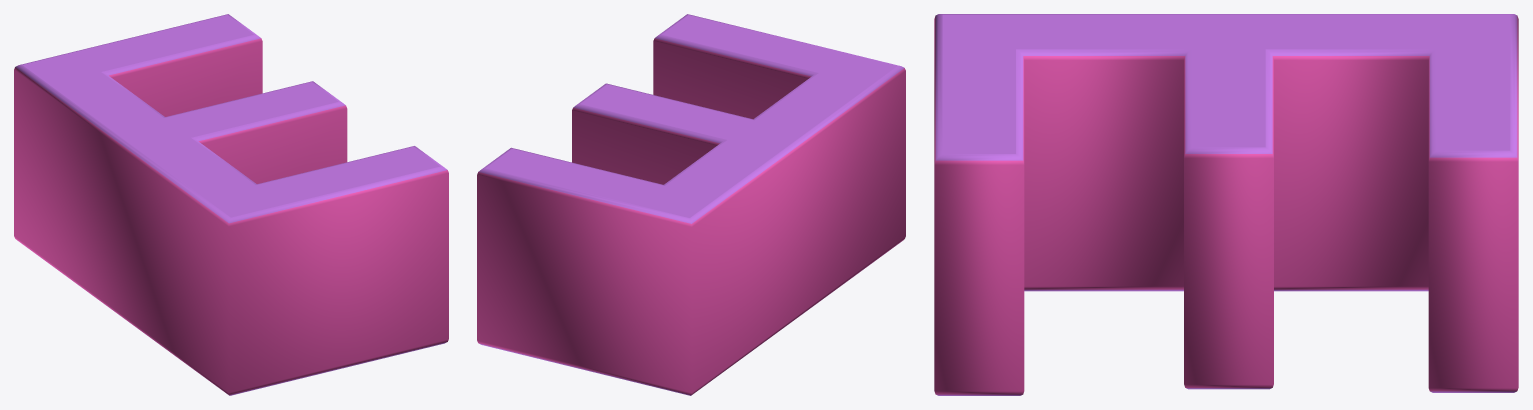
The model's file is letter_E.fbx.
3 views of the same model, side by side, from view 1: azimuth 30°, elevation 25°; view 2: azimuth 150°, elevation 25°; view 3: azimuth 270°, elevation 25° (orthographic). The views are drawn at different scales.
Visible parts, largest first — view 1: Letter_E; view 2: Letter_E; view 3: Letter_E.
Part boxes in pixels (x1,y1,x2,y2): Letter_E: (14, 14, 448, 395); Letter_E: (477, 14, 905, 395); Letter_E: (934, 14, 1518, 395).
Bounding box in the file's own units: 41.6 × 32 × 70.2.
